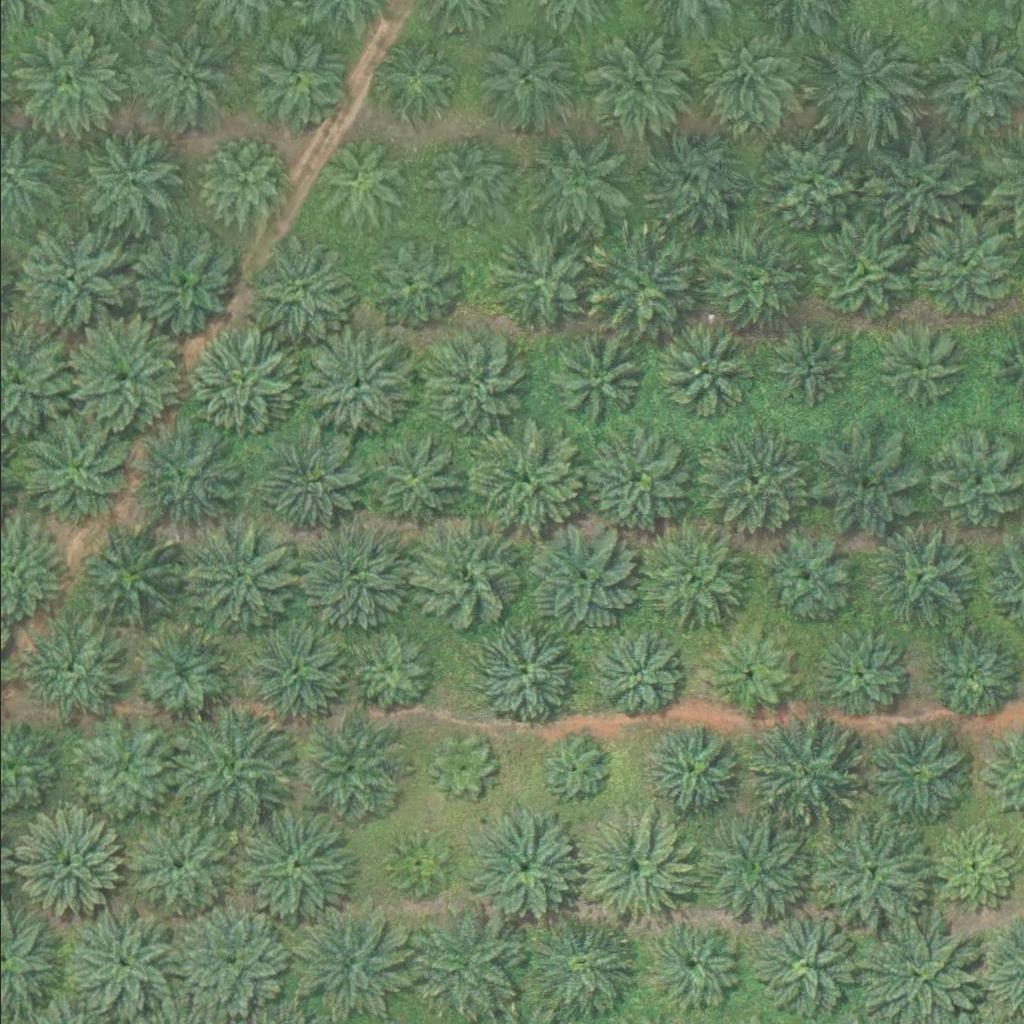Kelapa_Sawit: (857, 720, 971, 833), (744, 712, 858, 825), (70, 525, 184, 638), (245, 233, 359, 346), (578, 28, 692, 141), (18, 410, 132, 523), (693, 429, 806, 542), (574, 424, 687, 537), (636, 718, 749, 831), (574, 810, 687, 923), (297, 903, 410, 1016), (174, 907, 287, 1020), (463, 812, 576, 925), (237, 809, 350, 922), (408, 517, 521, 630), (295, 521, 408, 634), (180, 522, 293, 635), (470, 422, 583, 535), (350, 424, 463, 537), (125, 225, 238, 338), (239, 23, 352, 136), (10, 224, 123, 337), (7, 809, 120, 922), (62, 902, 175, 1015), (812, 818, 926, 930), (700, 815, 814, 927), (520, 909, 634, 1021), (130, 420, 244, 532), (299, 330, 413, 442), (178, 326, 292, 438), (514, 126, 628, 238), (803, 24, 916, 136), (856, 129, 969, 241), (638, 126, 751, 238), (686, 230, 799, 342), (814, 429, 927, 541), (867, 522, 980, 634), (636, 519, 749, 631), (118, 809, 231, 921), (291, 713, 404, 825), (169, 712, 282, 824), (464, 621, 577, 733), (233, 615, 346, 727), (523, 521, 636, 633), (248, 425, 361, 537), (416, 331, 529, 443), (582, 227, 695, 339), (126, 26, 239, 138), (11, 24, 124, 136), (64, 321, 177, 433), (755, 136, 856, 236), (910, 225, 1011, 325), (813, 223, 914, 323), (653, 322, 754, 422), (759, 528, 860, 628), (128, 623, 229, 723), (544, 328, 645, 428), (81, 132, 182, 232), (73, 723, 174, 823), (695, 32, 795, 132), (922, 625, 1022, 725), (808, 625, 908, 725), (486, 231, 586, 331), (356, 232, 456, 332), (313, 131, 413, 231), (471, 28, 571, 128), (24, 626, 124, 726), (588, 630, 676, 718), (929, 824, 1017, 912), (348, 627, 436, 715), (762, 325, 851, 412), (876, 328, 964, 415), (704, 630, 792, 717), (417, 133, 505, 220), (198, 140, 286, 227), (370, 31, 458, 118), (386, 833, 449, 896), (540, 741, 603, 804), (429, 736, 492, 799)
